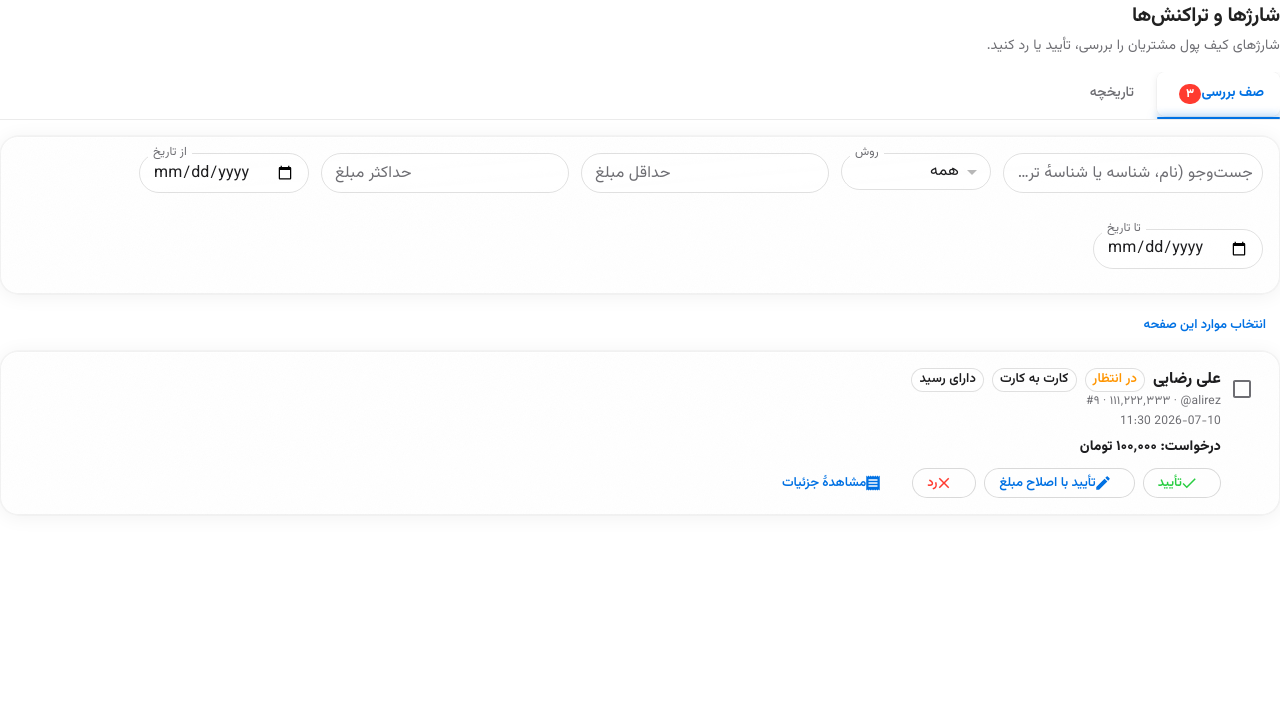
Scenario: storefront top-ups operations center › disables the reject submit until the reason is 3..255 chars, then sends it
Click the button "رد": (944, 483) [912, 468, 976, 498]
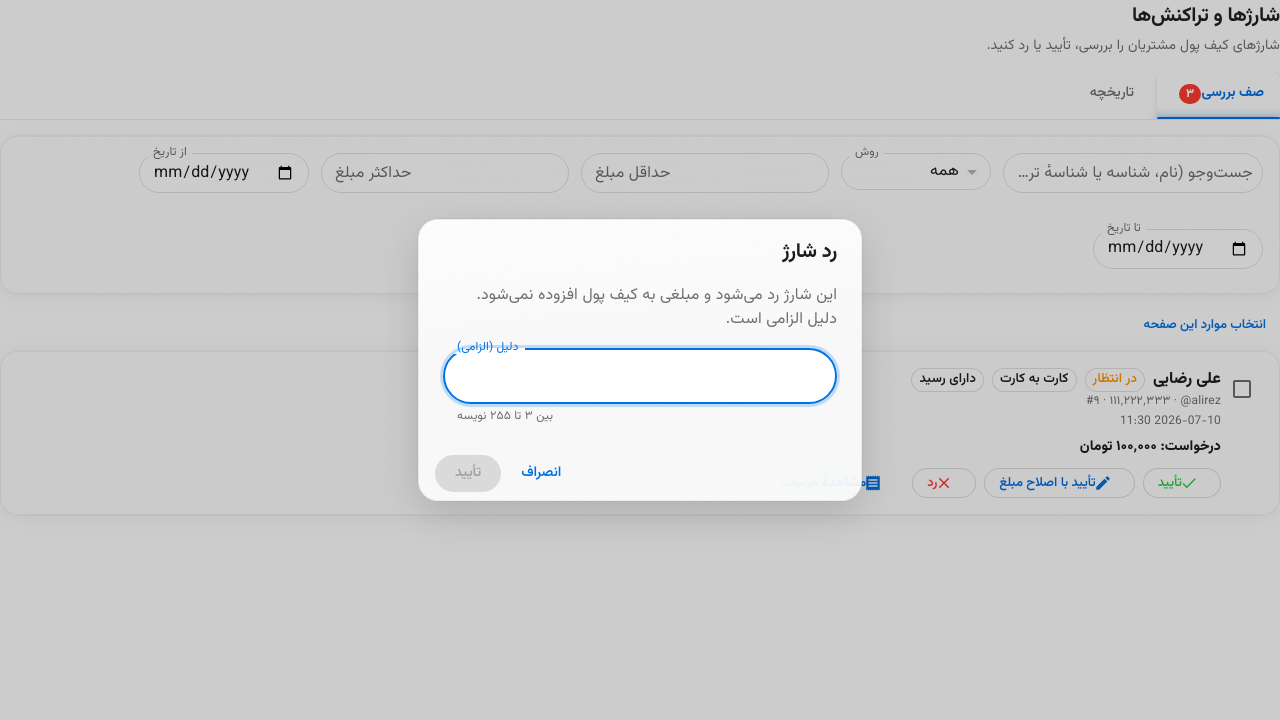
Check: the button "تأیید" is disabled, box [435, 455, 501, 492]
In the field labelled "دلیل (الزامی)": (640, 376) [443, 348, 837, 404], type "اس"
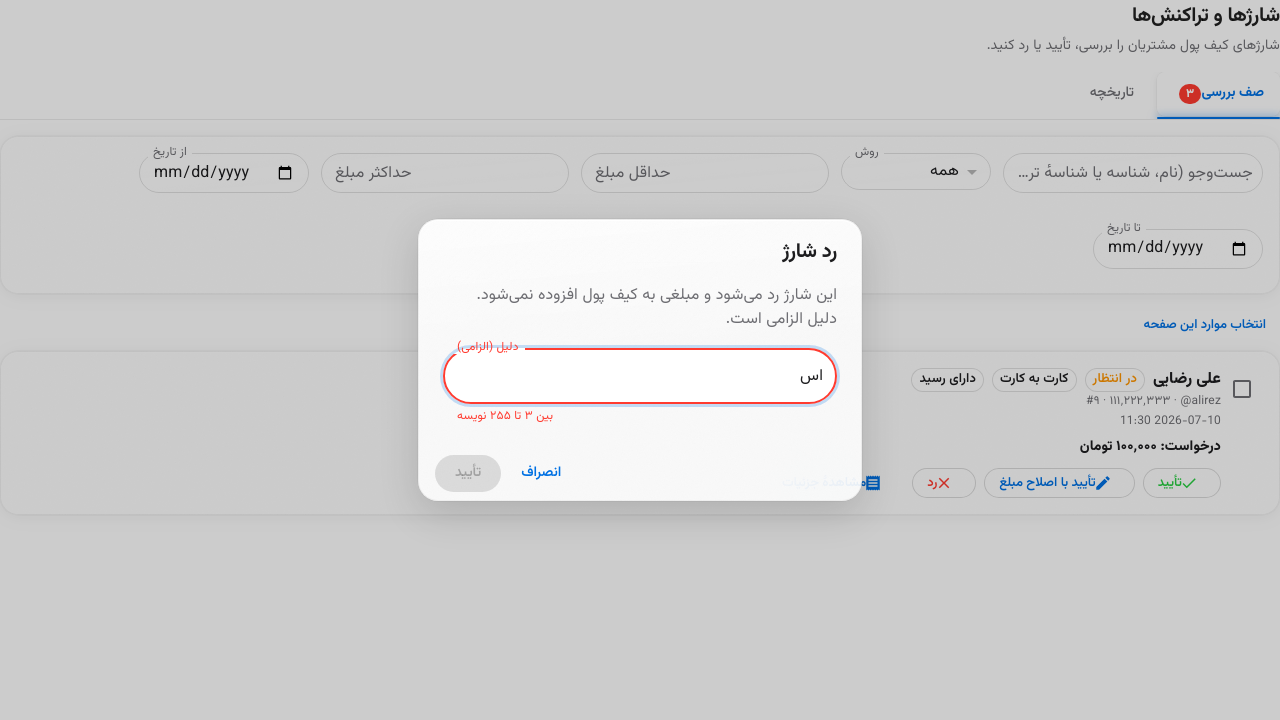
Check: the button "تأیید" is disabled, box [435, 455, 501, 492]
In the field labelled "دلیل (الزامی)": (640, 376) [443, 348, 837, 404], type "پم"
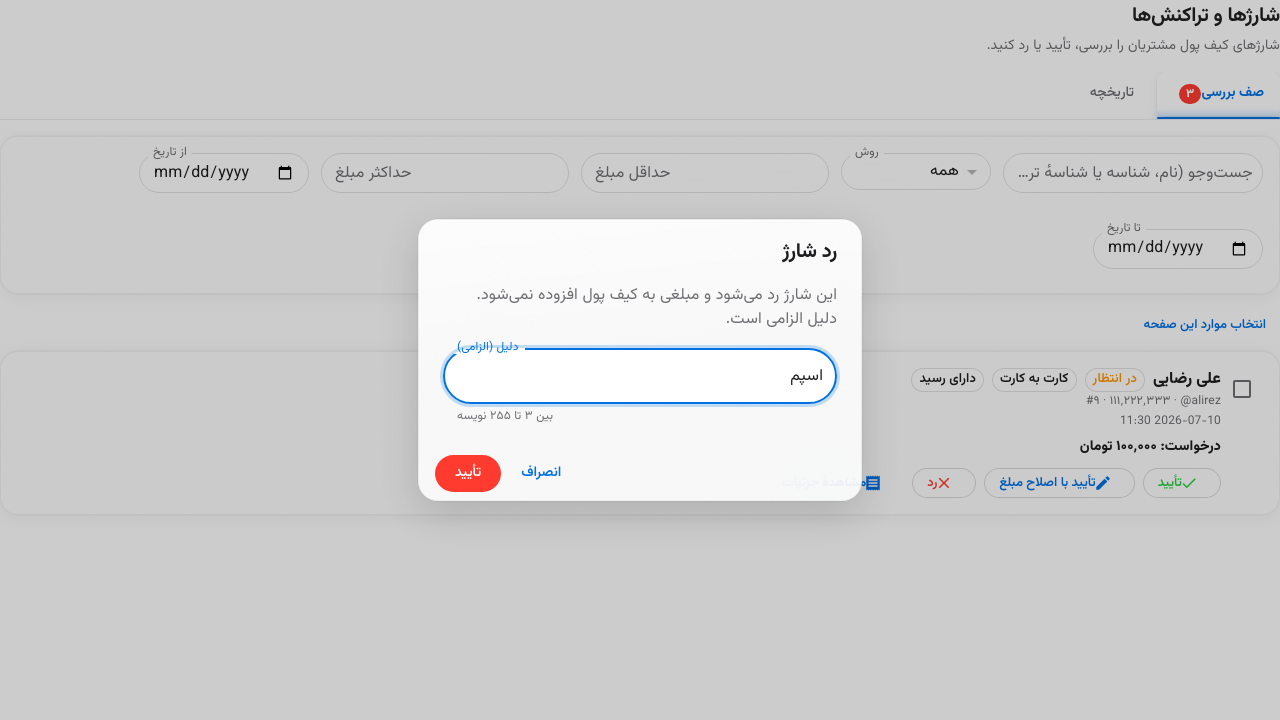
Check: the button "تأیید" is enabled
Click the button "تأیید": (468, 473) [435, 455, 501, 492]
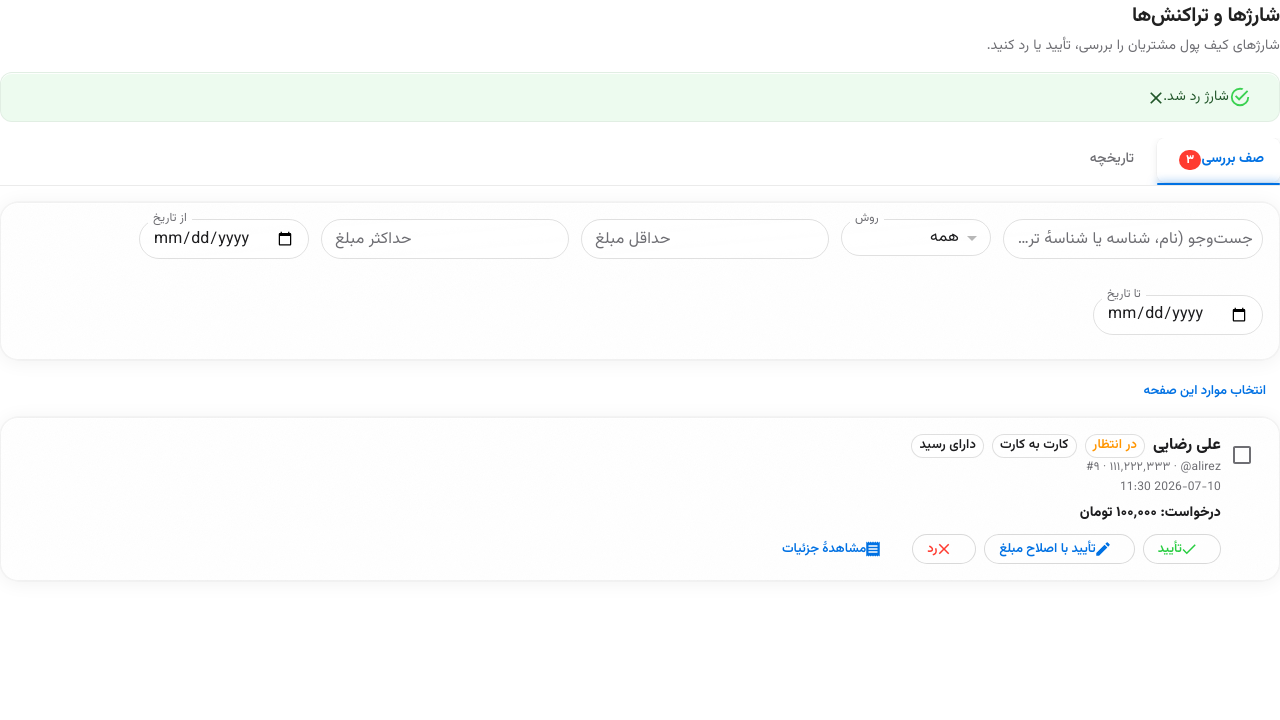
Check: the text "شارژ رد شد." is shown, box [1163, 79, 1229, 115]
